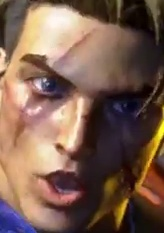kevin: (0, 9, 163, 230)
